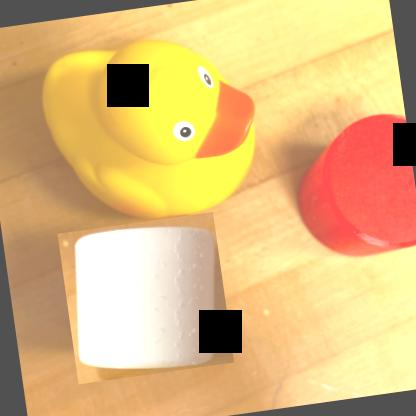duck: (28, 19, 273, 234)
red cylinder: (283, 106, 416, 268)
white cylinder: (57, 211, 234, 384)
